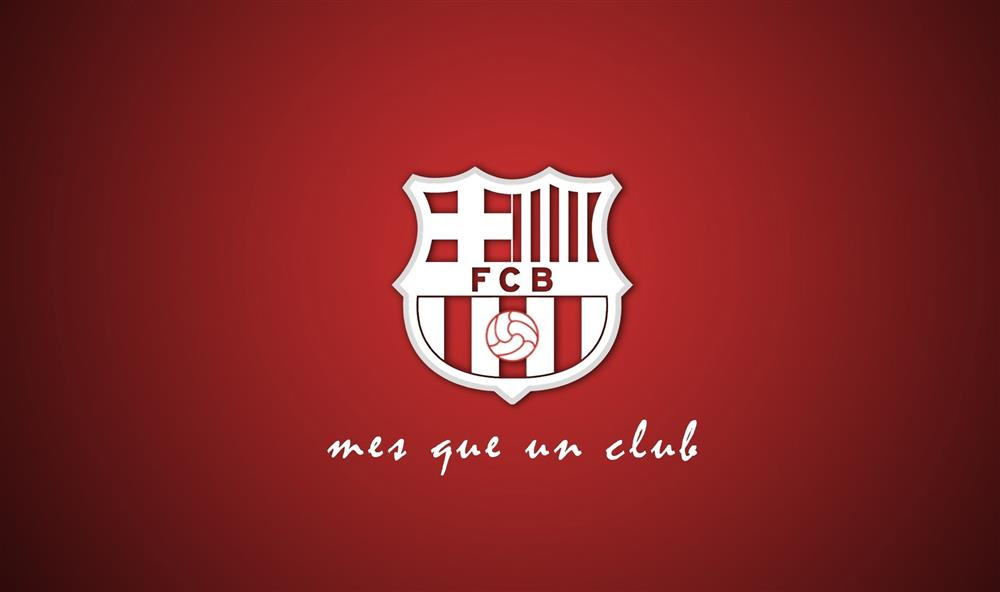BarcelonaFC: (395, 157, 643, 408)
